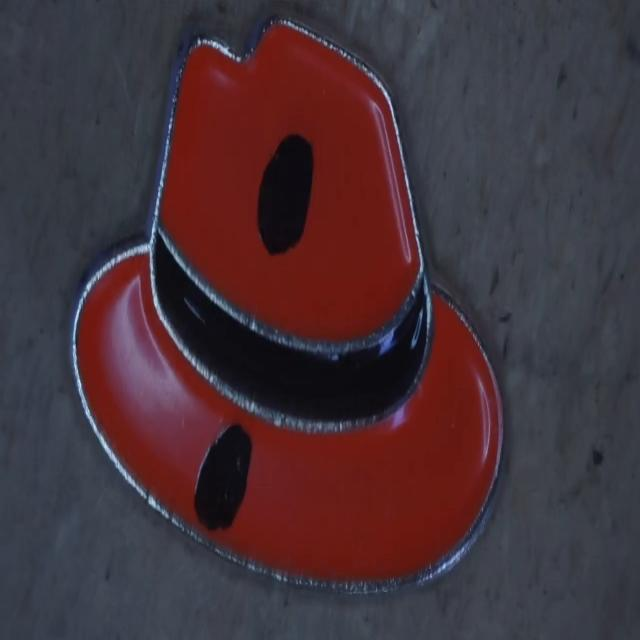Hatband: (152, 233, 431, 429)
Paint_Leak: (259, 136, 312, 254), (195, 424, 251, 530)
RedHatPin: (71, 20, 502, 591)
